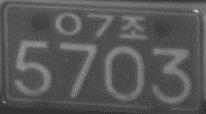0: (104, 45, 145, 102), (55, 11, 83, 37)
3: (152, 46, 192, 106)
5: (13, 40, 51, 97)
7: (58, 42, 99, 98), (87, 13, 115, 38)
조: (119, 14, 147, 39)
